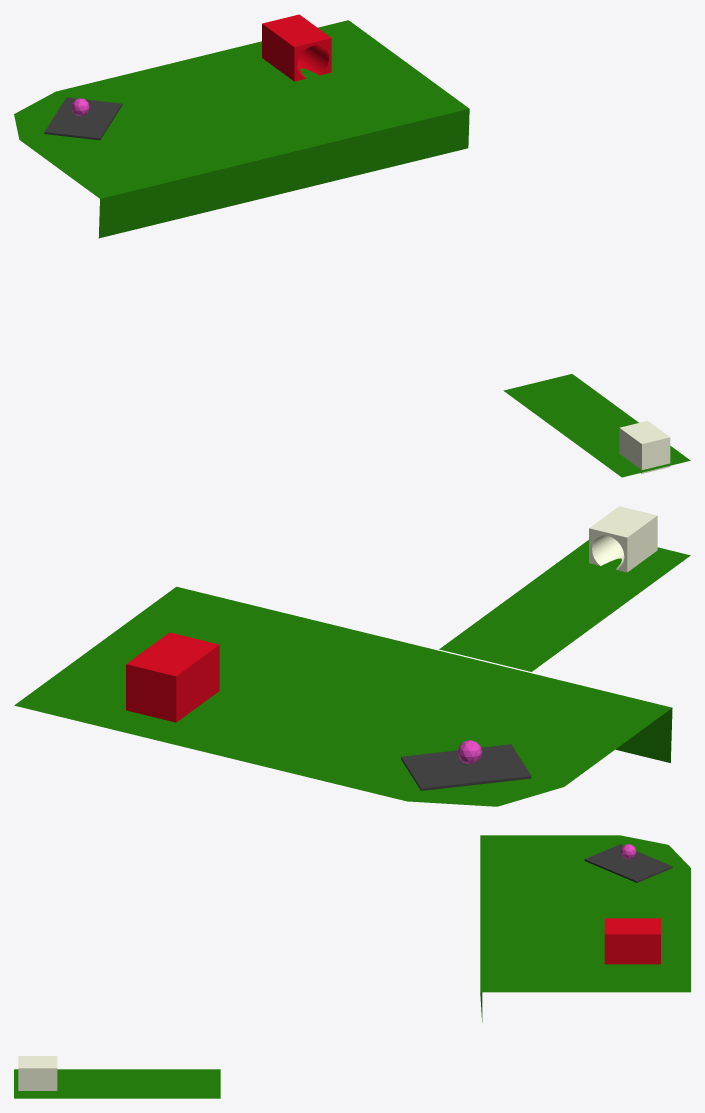
Rendered from boilerplate_level_7.glb.
3 views of the same model, one above another, from view 1: azimuth 30°, elevation 25°; view 2: azimuth 150°, elevation 25°; view 3: azimuth 270°, elevation 25° (orthographic). The views are drawn at different scales.
Visible parts, largest first — view 1: Plane, Cannon, Cup, Start; view 2: Plane, Cannon, Start, Cup, Ball; view 3: Plane, Cannon, Start, Cup.
Part boxes in pixels (x1,y1,x2,y2): Plane: [14, 20, 690, 477]; Cannon: [262, 14, 331, 81]; Cup: [619, 421, 670, 473]; Start: [44, 97, 122, 140]; Plane: [14, 540, 690, 806]; Cannon: [126, 632, 219, 722]; Start: [401, 744, 531, 790]; Cup: [589, 506, 657, 572]; Ball: [457, 740, 481, 764]; Plane: [14, 835, 690, 1098]; Cannon: [604, 918, 660, 964]; Start: [584, 844, 672, 882]; Cup: [18, 1056, 57, 1090].
Bounding box in the file's own units: 39.54 × 18.68 × 72.05.
